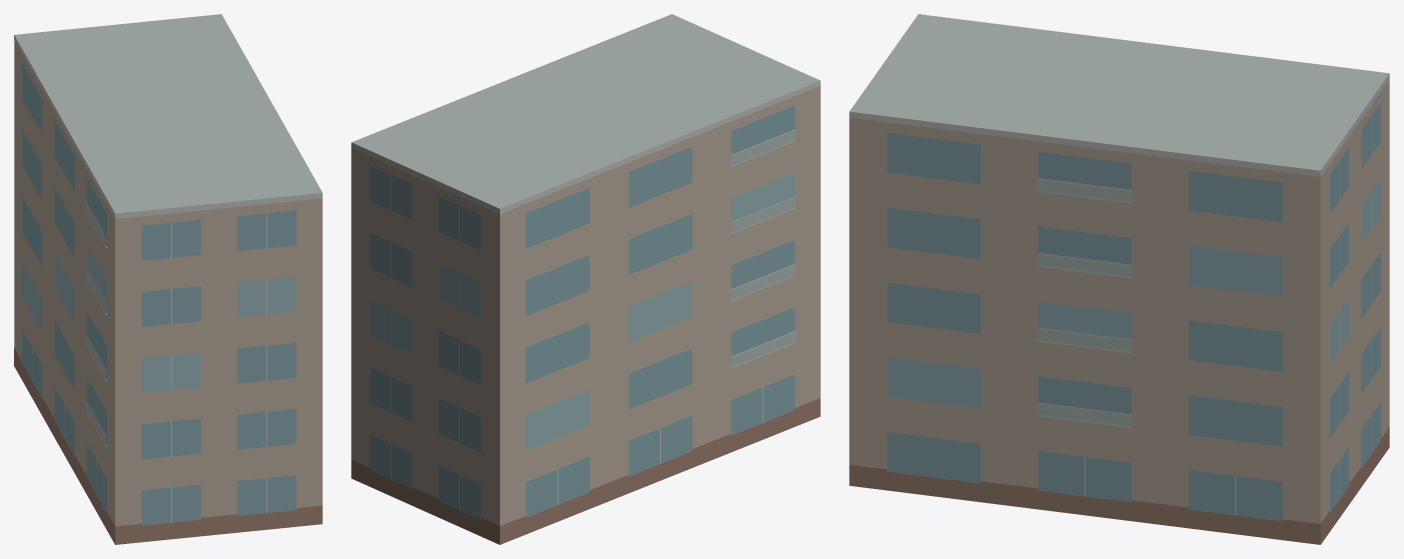
Rendered from survey-upis-32873961.glb.
3 renders of one model, left to right at view 1: azimuth 30°, elevation 25°; view 2: azimuth 150°, elevation 25°; view 3: azimuth 270°, elevation 25°, orthographic. The views are drawn at different scales.
Parts seen in each view (by area): view 1: survey-upis-32873961.tmp; view 2: survey-upis-32873961.tmp; view 3: survey-upis-32873961.tmp.
Boxes of the visible parts, box(x1,y1,x2,y2) form: survey-upis-32873961.tmp: box(14, 14, 322, 544); survey-upis-32873961.tmp: box(351, 14, 820, 544); survey-upis-32873961.tmp: box(849, 14, 1389, 544).
Size of the model in its own units: 13.4 by 14.9 by 19.51.
